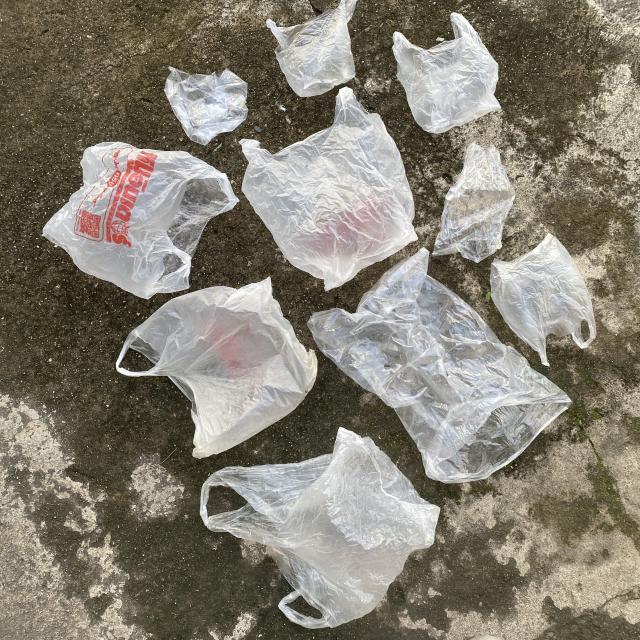Single-layer Plastic: (308, 249, 571, 482), (200, 428, 440, 629), (116, 279, 318, 458), (241, 88, 418, 290), (42, 142, 238, 299), (490, 234, 596, 366), (392, 12, 501, 134), (432, 142, 515, 262), (266, 0, 356, 98), (165, 66, 248, 145)
